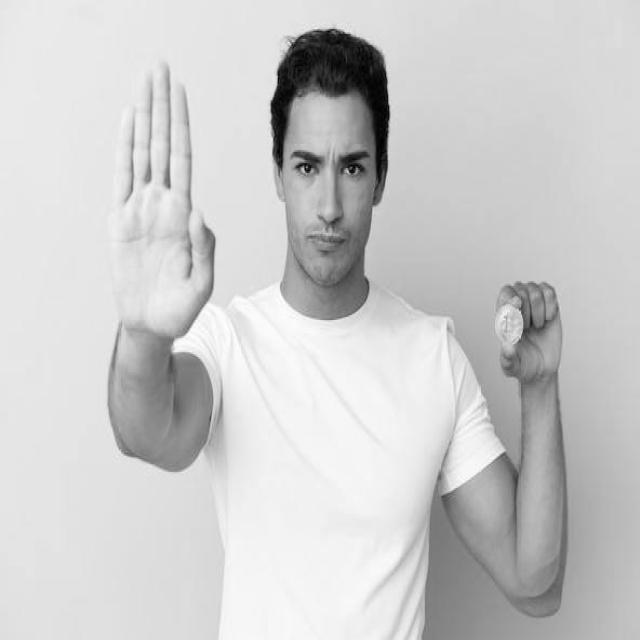stop: (102, 51, 219, 352)
